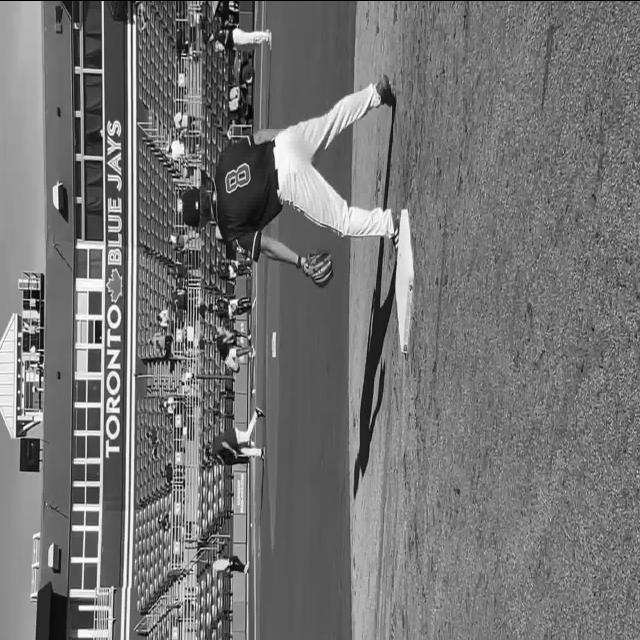base: (395, 209, 414, 351)
baseball_glove: (301, 249, 334, 287)
shoe: (376, 73, 395, 107), (391, 207, 401, 249)
